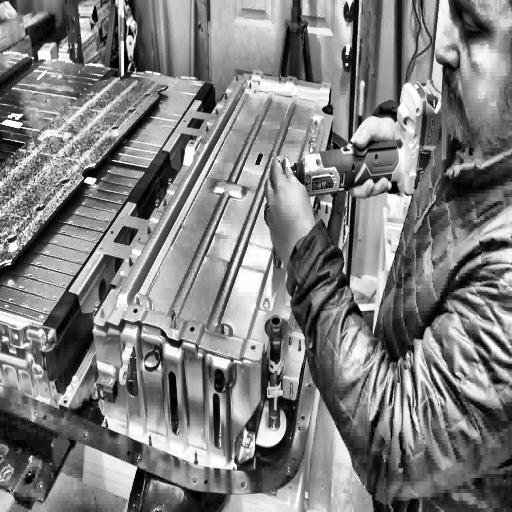battery_module: (86, 72, 334, 375)
